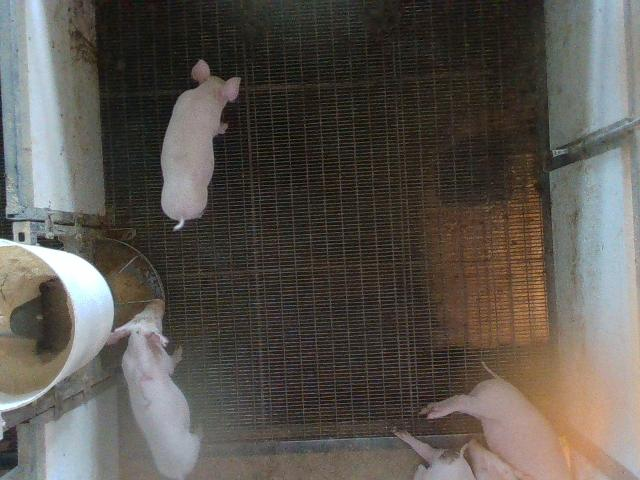pig-5: (108, 299, 200, 479)
